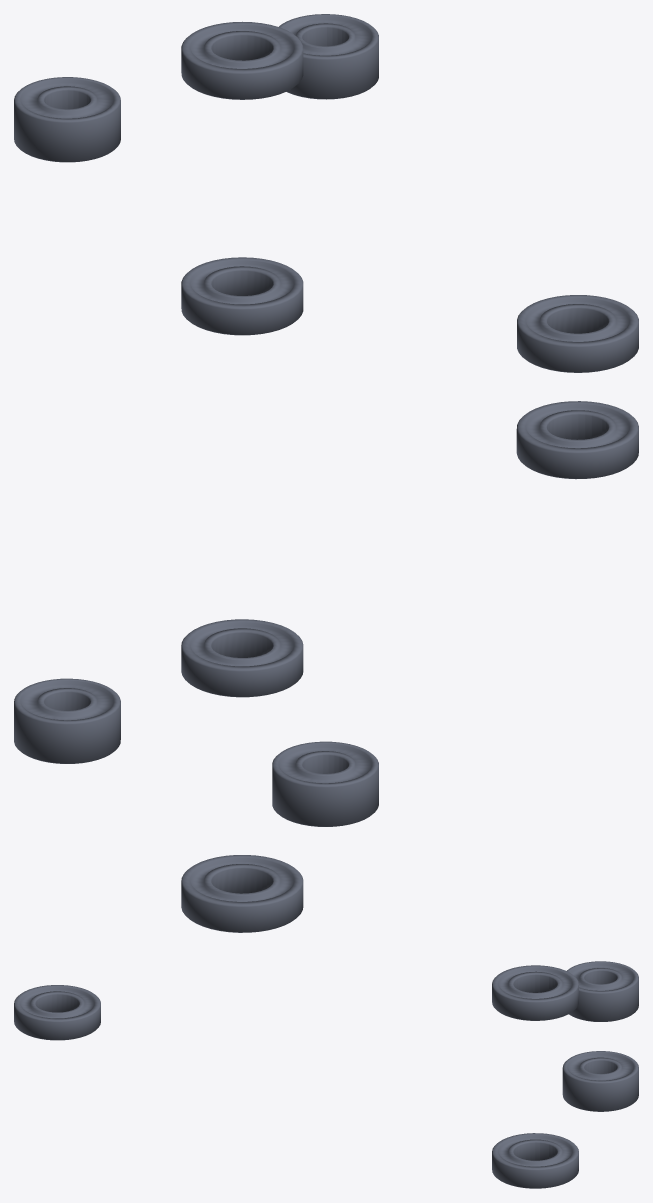
Rendered from solo_upper_leg_left_side_14.obj.
The picture shows the model from 3 angles, top to bottom: view 1: azimuth 30°, elevation 25°; view 2: azimuth 150°, elevation 25°; view 3: azimuth 270°, elevation 25°; orthographic projection. The views are drawn at different scales.
Size of the model in its own units: 0.0265 by 0.019 by 0.0574.
